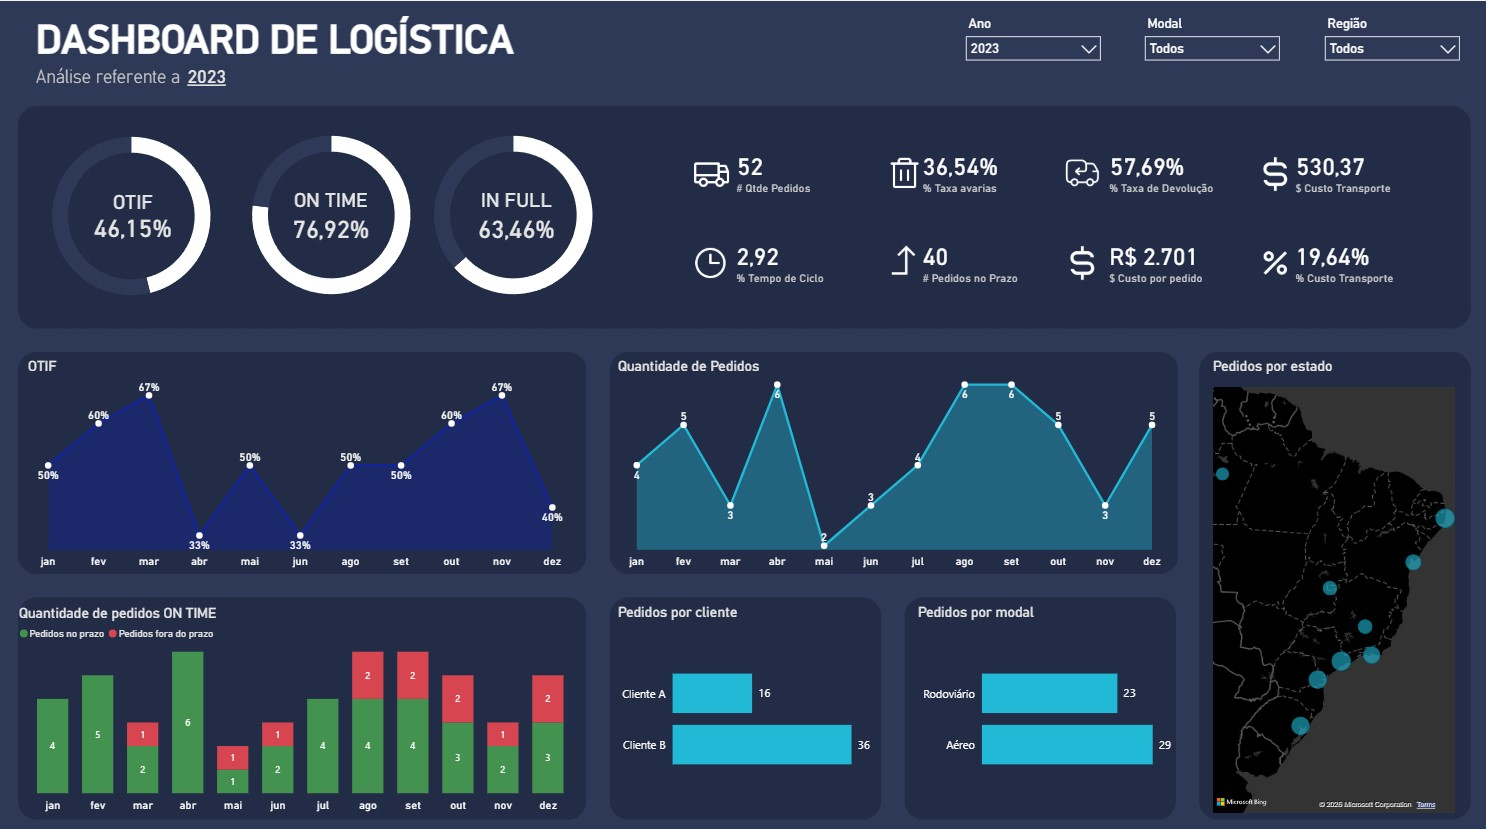

The page's visual inventory and layout, read from the dashboard file:
{"tool":"powerbi","page":{"name":"Página 1","canvas":[1920,1080],"ordinal":0},"visuals":[{"type":"slicer","fields":{"Values":["dim_calendario.Ano"]},"box":[1238.2,19.7,182.9,72.6],"z":0},{"type":"cardVisual","fields":{"Data":["Medidas.Qtde Pedidos","Medidas.% Taxa avarias","Medidas.% Taxa de Devolução","Medidas.$ Custo Transporte"]},"box":[932.8,189,947.9,68],"z":1000},{"type":"areaChart","title":"Quantidade de Pedidos","fields":{"Category":["dim_calendario.Nome do Mês"],"Y":["Medidas.Qtde Pedidos"]},"box":[796.7,458,709,270],"z":2000},{"type":"cardVisual","fields":{"Data":["Medidas.% Tempo de Ciclo","Medidas.# Pedidos no Prazo","Medidas.$ Custo por pedido","Medidas.% Custo Transporte"]},"box":[932.8,303.9,947.9,68],"z":3000},{"type":"barChart","title":"Pedidos por cliente","fields":{"Category":["dim_cliente.NomeCliente"],"Y":["Medidas.# Qtde Pedidos"]},"box":[796.7,774,325,267.6],"z":4000},{"type":"slicer","fields":{"Values":["dim_transportadora.Modal"]},"box":[1468,19.7,182.9,72.6],"z":5000},{"type":"slicer","fields":{"Values":["dim_geografia.Região"]},"box":[1697.8,19.7,182.9,72.6],"z":6000},{"type":"barChart","title":"Pedidos por modal","fields":{"Category":["dim_transportadora.Modal"],"Y":["Medidas.# Qtde Pedidos"]},"box":[1180.7,774,325,267.6],"z":7000},{"type":"map","title":"Pedidos por estado","fields":{"Category":["dim_geografia.UF"],"Size":["Medidas.# Qtde Pedidos"]},"box":[1560.2,458.1,309.9,583.6],"z":8000},{"type":"textbox","box":[50.3,19.8,921,105.9],"z":9000},{"type":"cardVisual","fields":{"Data":["Medidas.Título dinâmico"]},"box":[228,77,192,39.3],"z":10000},{"type":"donutChart","fields":{"Y":["Medidas.% OTIF","Medidas.Dif Otif"]},"box":[39.3,148.2,265,254],"z":11000},{"type":"donutChart","fields":{"Y":["Medidas.% ON TIME","Medidas.Dif ONTIME"]},"box":[295.8,148,265,254],"z":12000},{"type":"donutChart","fields":{"Y":["Medidas.% IN FULL","Medidas.Dif IN FULL"]},"box":[530.2,148,265,254],"z":13000},{"type":"cardVisual","title":"OTIF","fields":{"Data":["Medidas.% OTIF"]},"box":[122.5,234.3,105.8,81.6],"z":14000},{"type":"cardVisual","title":"OTIF","fields":{"Data":["Medidas.% ON TIME"]},"box":[361.3,234.3,133,81.6],"z":14001},{"type":"cardVisual","title":"OTIF","fields":{"Data":["Medidas.% IN FULL"]},"box":[595.7,234.3,142.1,81.6],"z":14002},{"type":"areaChart","title":"OTIF","fields":{"Category":["dim_calendario.Nome do Mês"],"Y":["Medidas.% OTIF"]},"box":[39.3,458.1,698.5,270.6],"z":14003},{"type":"columnChart","title":"Quantidade de pedidos ON TIME","fields":{"Category":["dim_calendario.Nome do Mês"],"Y":["Medidas.Pedidos no prazo","Medidas.Pedidos fora do prazo"]},"box":[27.8,760.9,722.5,280.5],"z":14004}]}

Visuals, with their boxes in screenshot pixels (x1, y1, x2, y2), scaled from the page's 1920x1080 canvas onto the 1486x829 screenshot:
slicer - dim_calendario.Ano: 958/15/1100/71
cardVisual - Medidas.Qtde Pedidos x Medidas.% Taxa avarias: 722/145/1456/197
"Quantidade de Pedidos" areaChart: 617/352/1165/559
cardVisual - Medidas.% Tempo de Ciclo x Medidas.# Pedidos no Prazo: 722/233/1456/285
"Pedidos por cliente" barChart: 617/594/868/800
slicer - dim_transportadora.Modal: 1136/15/1278/71
slicer - dim_geografia.Região: 1314/15/1456/71
"Pedidos por modal" barChart: 914/594/1165/800
"Pedidos por estado" map: 1208/352/1447/800
textbox: 39/15/752/96
cardVisual - Medidas.Título dinâmico: 176/59/325/89
donutChart - Medidas.% OTIF x Medidas.Dif Otif: 30/114/236/309
donutChart - Medidas.% ON TIME x Medidas.Dif ONTIME: 229/114/434/309
donutChart - Medidas.% IN FULL x Medidas.Dif IN FULL: 410/114/615/309
"OTIF" cardVisual: 95/180/177/242
"OTIF" cardVisual: 280/180/383/242
"OTIF" cardVisual: 461/180/571/242
"OTIF" areaChart: 30/352/571/559
"Quantidade de pedidos ON TIME" columnChart: 22/584/581/799
